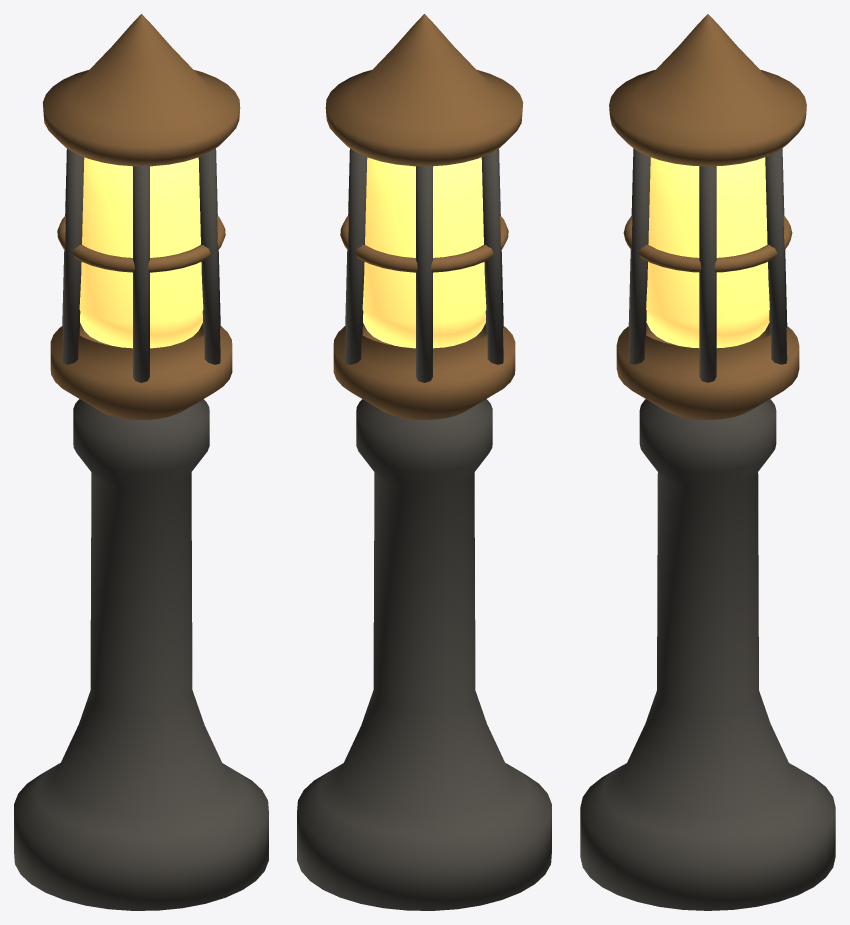
The model's file is vigil.glb.
3 renders of one model, left to right at view 1: azimuth 30°, elevation 25°; view 2: azimuth 150°, elevation 25°; view 3: azimuth 270°, elevation 25°, orthographic.
Parts seen in each view (by area): view 1: vigil; view 2: vigil; view 3: vigil.
Part boxes in pixels (x1,y1,x2,y2): vigil: [14, 14, 268, 910]; vigil: [297, 14, 551, 910]; vigil: [580, 14, 835, 910].
Size of the model in its own units: 0.56 by 2.04 by 0.56.
